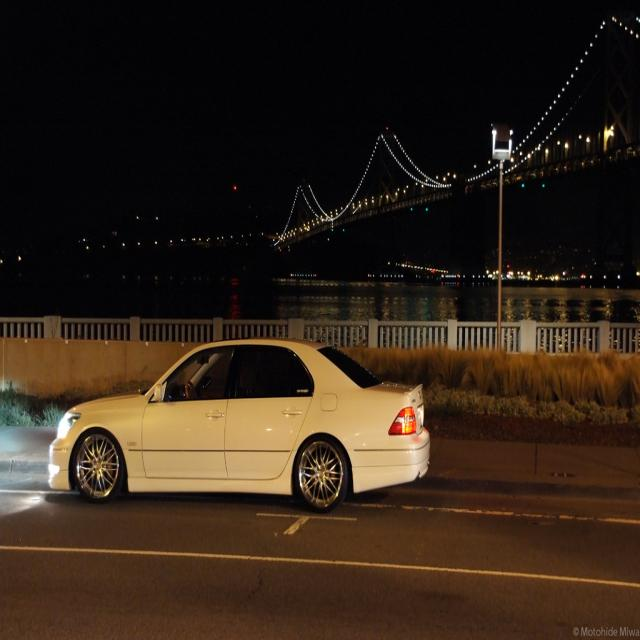car: (49, 331, 430, 515)
